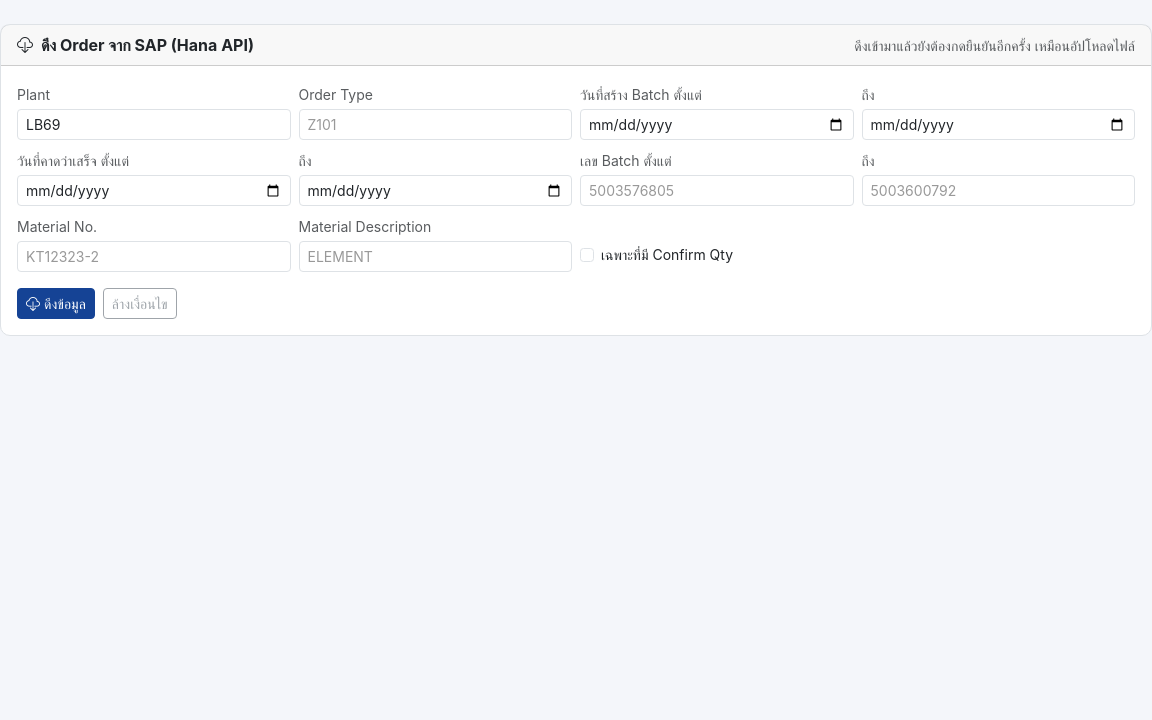
it: order เดิมที่ยังไม่ปิดมีช่องติ๊ก · order ใหม่/ปิดแล้วไม่มี · ป้ายต่างบอกช่อง
The width and height of the screenshot is (1152, 720).
Click the button "ดึงข้อมูล" at (56, 304), box [17,288,95,319]
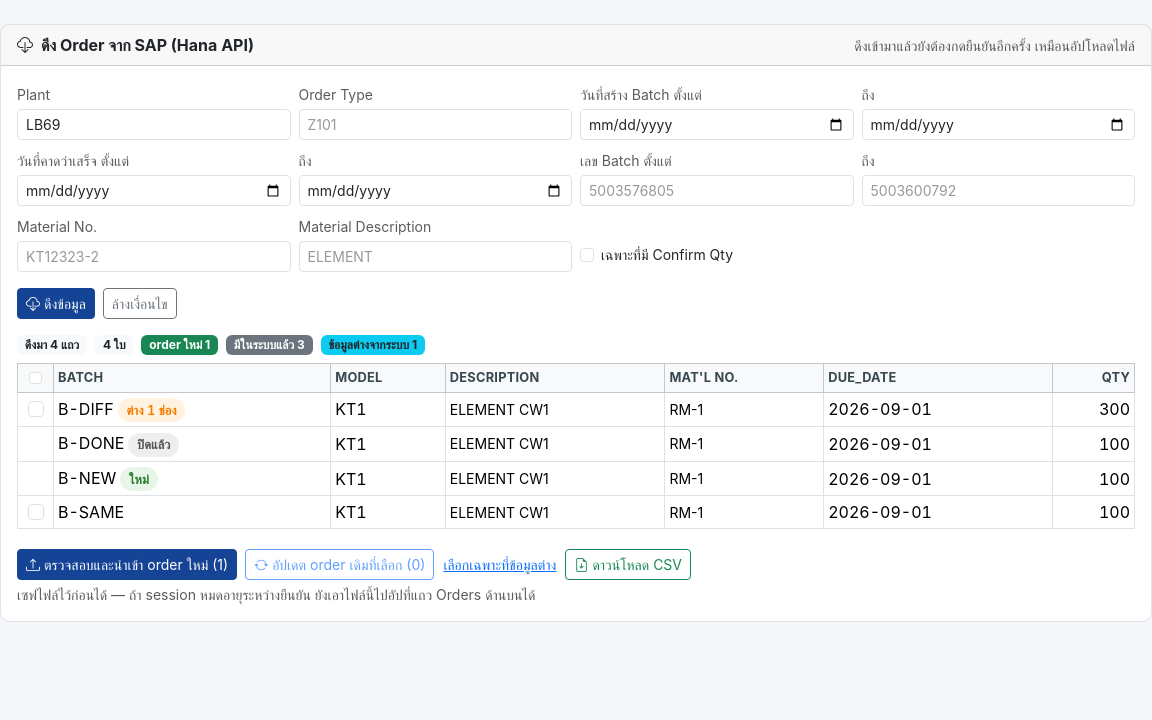
Expected: the checkbox named "เลือกอัปเดต B-SAME" is shown, [28,504,44,520]
Expected: the text "order ใหม่ 1" is shown, [141,335,218,355]
